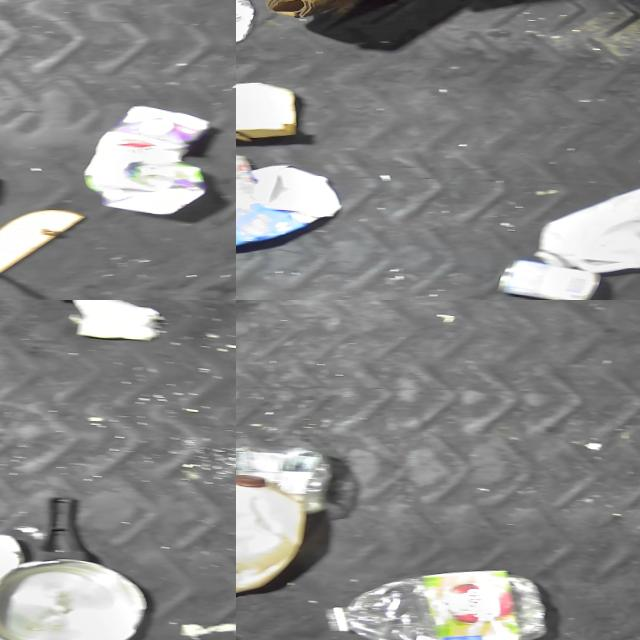can: (493, 255, 603, 300)
milk_jug: (539, 175, 640, 271), (236, 472, 311, 597)
non_white_jug: (86, 103, 216, 213), (236, 165, 339, 251)
plastic_bottle: (325, 563, 554, 640)
